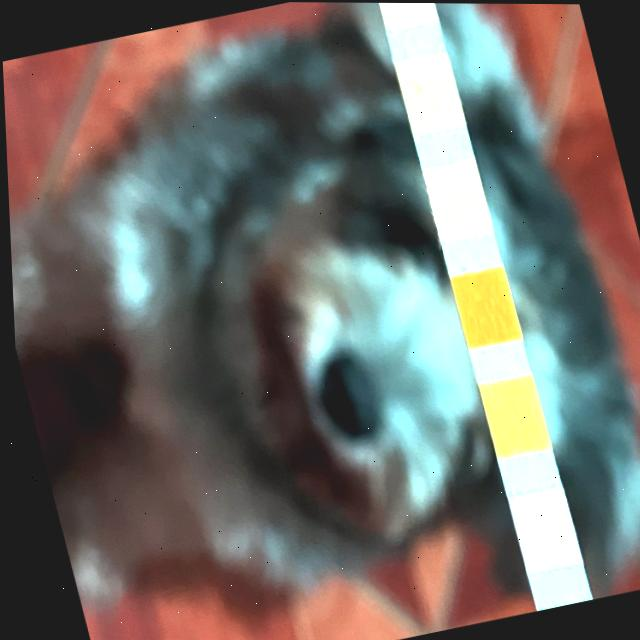Blood: (445, 266, 518, 348)
Ketone: (500, 485, 576, 574)
Protein: (392, 53, 462, 134)
SpGravity: (471, 373, 546, 457)
Urobilinogen: (373, 2, 437, 30)
pH: (419, 159, 489, 240)
